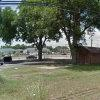Tree: (13, 0, 69, 63)
